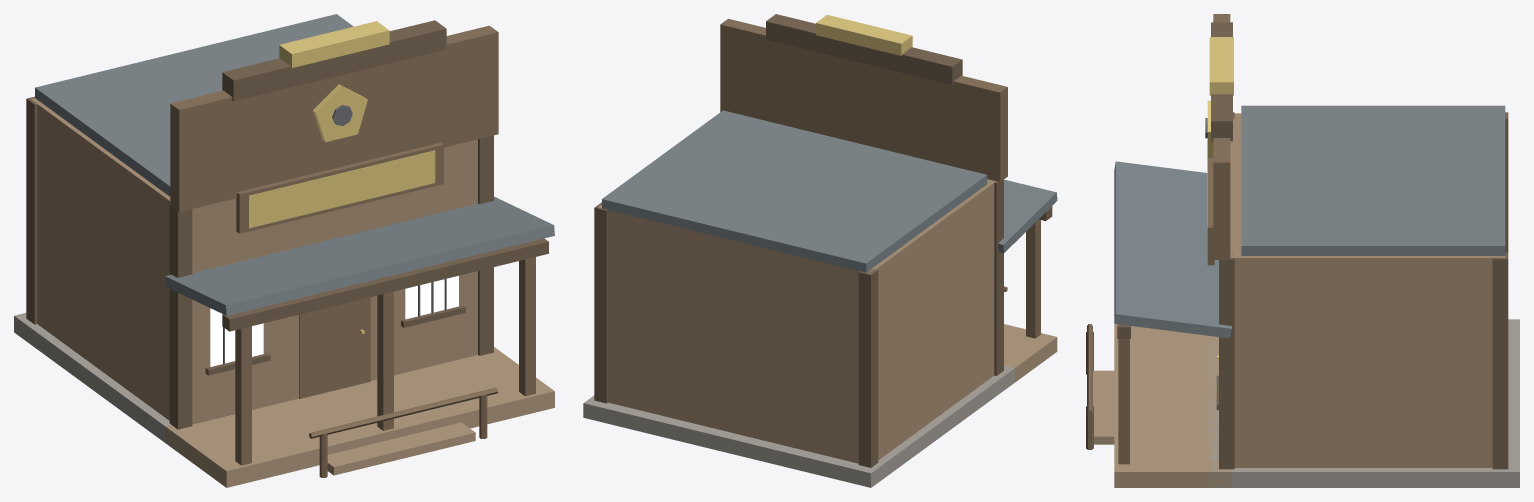
The model's file is sheriff.glb.
3 views of the same model, side by side, from view 1: azimuth 30°, elevation 25°; view 2: azimuth 150°, elevation 25°; view 3: azimuth 270°, elevation 25° (orthographic). The views are drawn at different scales.
Parts seen in each view (by area): view 1: sheriff; view 2: sheriff; view 3: sheriff.
Boxes of the visible parts, x1,y1,x2,y2 form: sheriff: (14, 14, 554, 487); sheriff: (583, 14, 1057, 487); sheriff: (1086, 14, 1519, 487).
Bounding box in the file's own units: 7.4 × 7.95 × 8.88.
